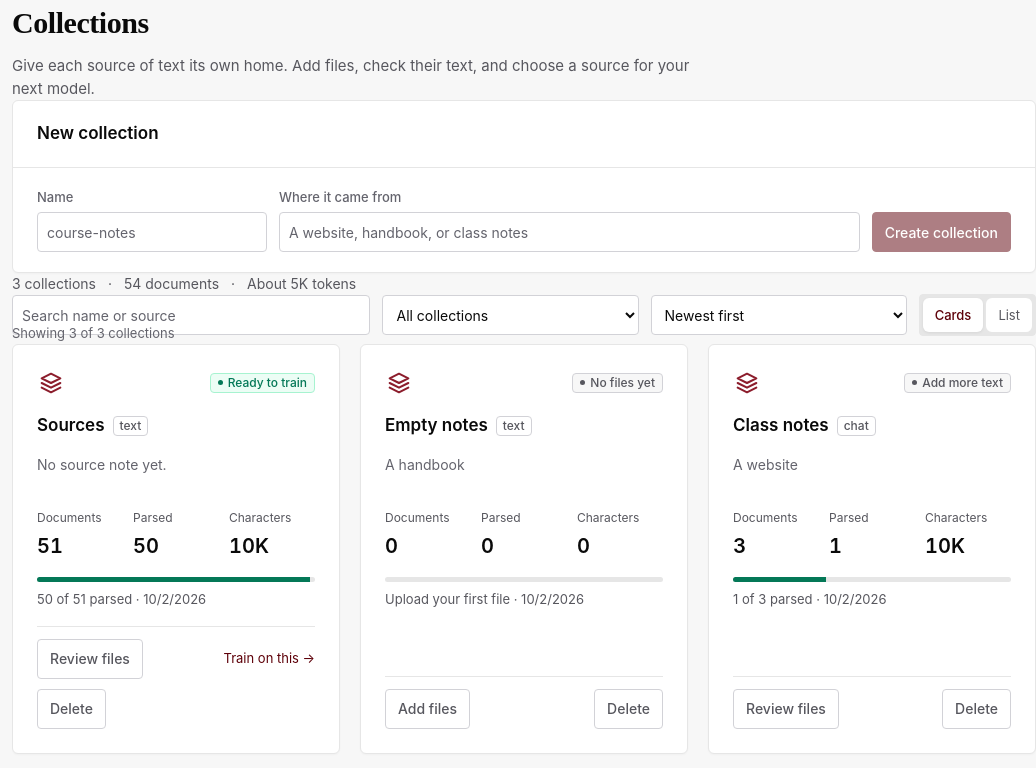
Scenario: searches source notes, filters eligibility, switches view, and clears no matches
This screenshot has width=1036, height=768.
Expected: the element "Sources" is shown, x1=12 y1=344 x2=340 y2=754
Step 1. Type "handbook" into the field named "Find collections" → [191, 315], box x1=12 y1=295 x2=370 y2=335
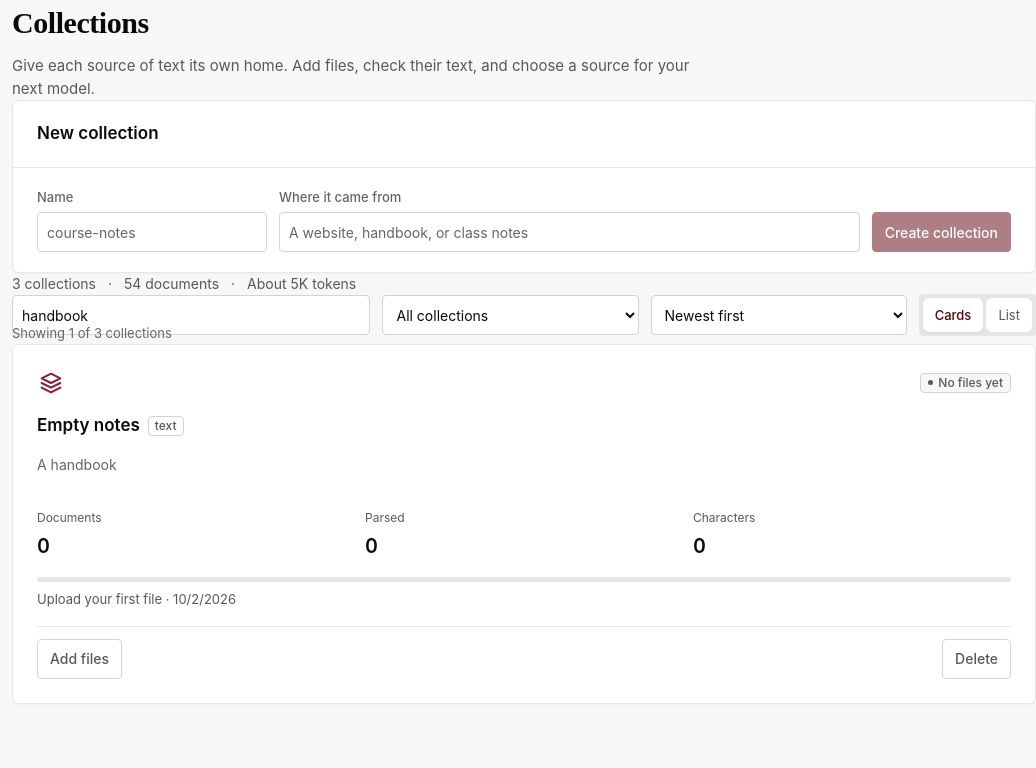
Expected: the element "Empty notes" is shown, x1=12 y1=344 x2=1035 y2=704
Step 2. Select "Ready to train" in the dropdown named "Filter collections" → [511, 315], box x1=382 y1=295 x2=639 y2=335
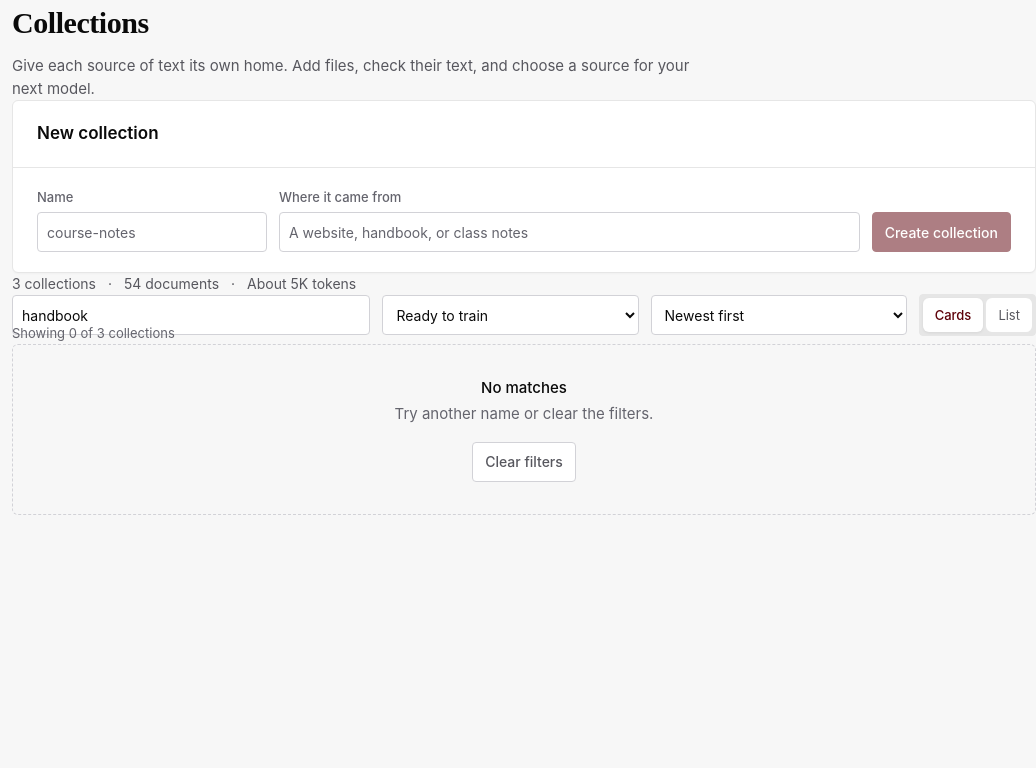
Expected: the text "No matches" is shown, x1=481 y1=378 x2=567 y2=396
Step 3. Click the button "Clear filters" → [524, 462], box x1=472 y1=442 x2=576 y2=482
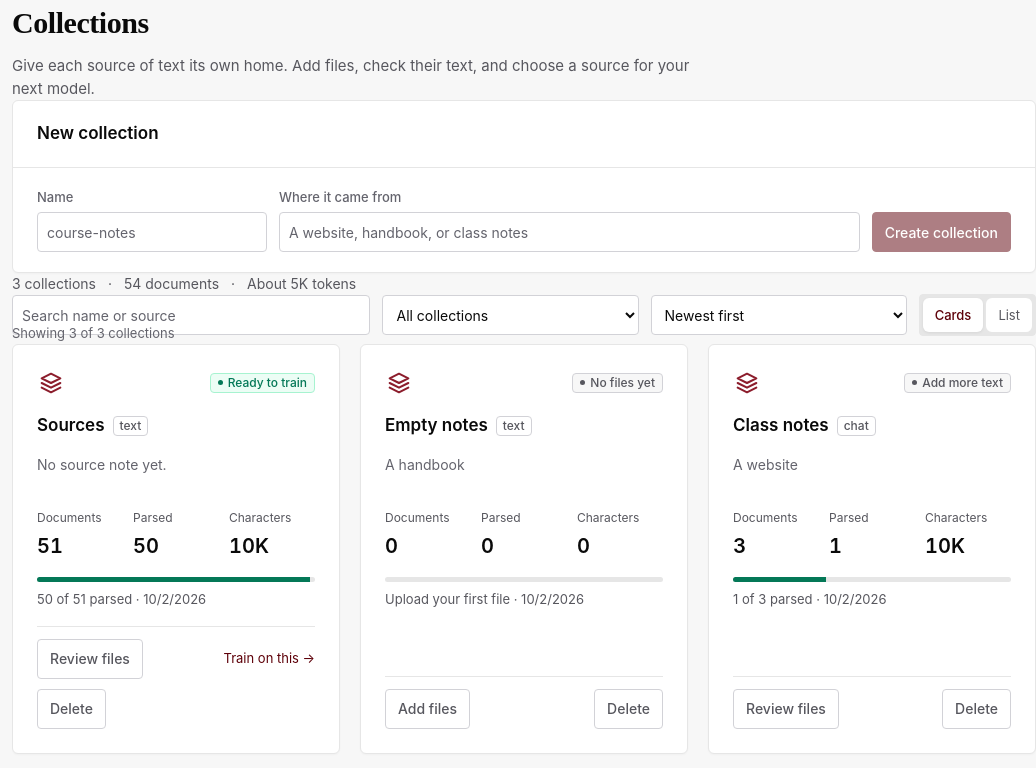
Step 4. Select "Ready to train" in the dropdown named "Filter collections" → [511, 315], box x1=382 y1=295 x2=639 y2=335
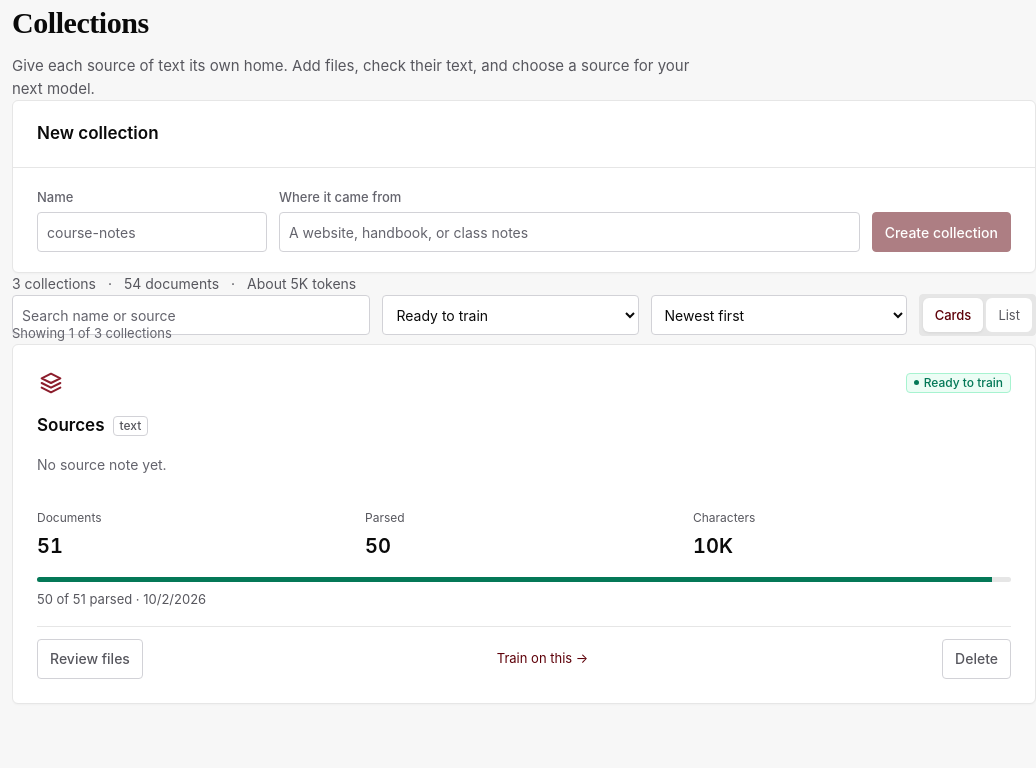
Step 5. Click the button "List" → [1009, 315], box x1=986 y1=298 x2=1032 y2=332
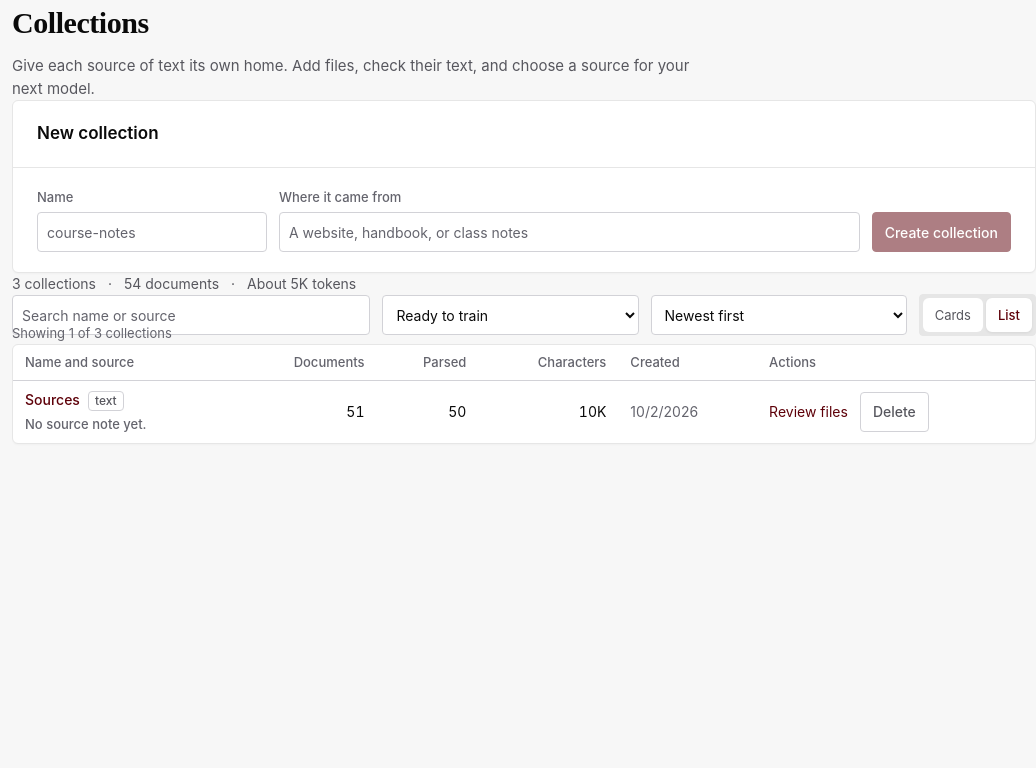
Expected: the number of rows is 2, x1=13 y1=344 x2=1035 y2=380; x1=13 y1=380 x2=1035 y2=443
